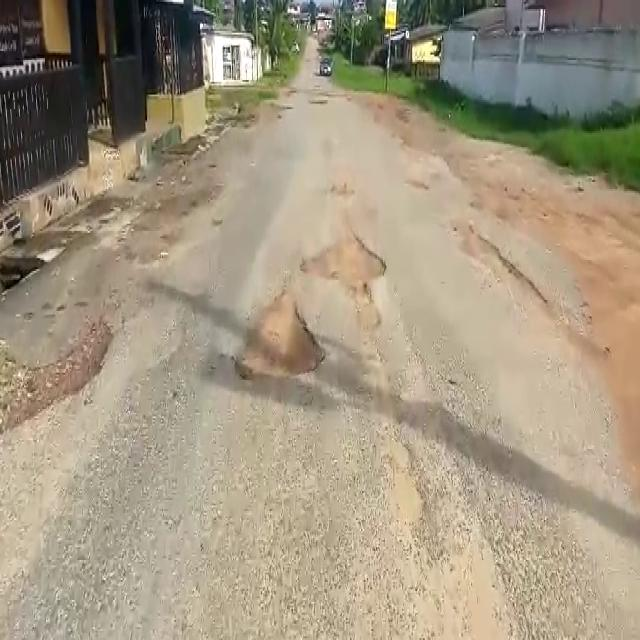Pothole: (0, 304, 115, 446), (232, 301, 333, 386), (303, 234, 387, 284)
